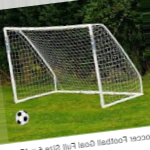goals: (2, 23, 146, 109)
